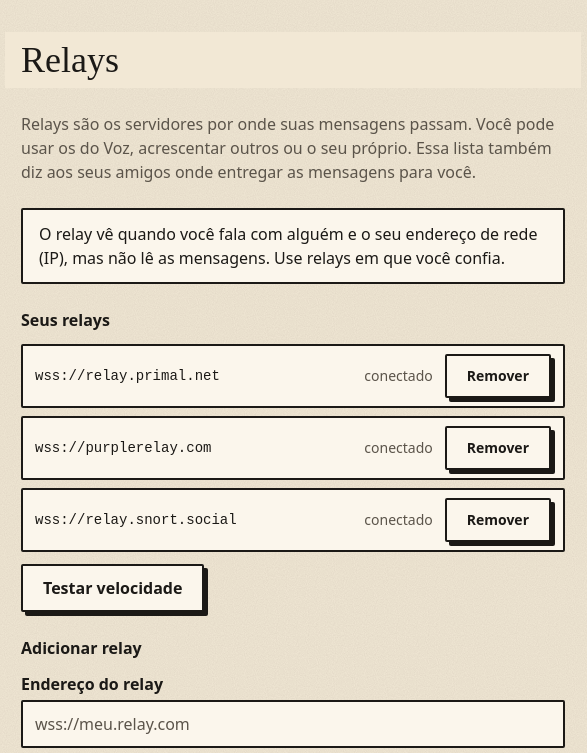
Scenario: tela de relays › cancelar descarta o relay que nao conectou
In the field labelled "Endereço do relay": {"x": 293, "y": 724} top-left (21, 700), bottom-right (565, 748), type "wss://fora.do.ar"
(page scrolled)
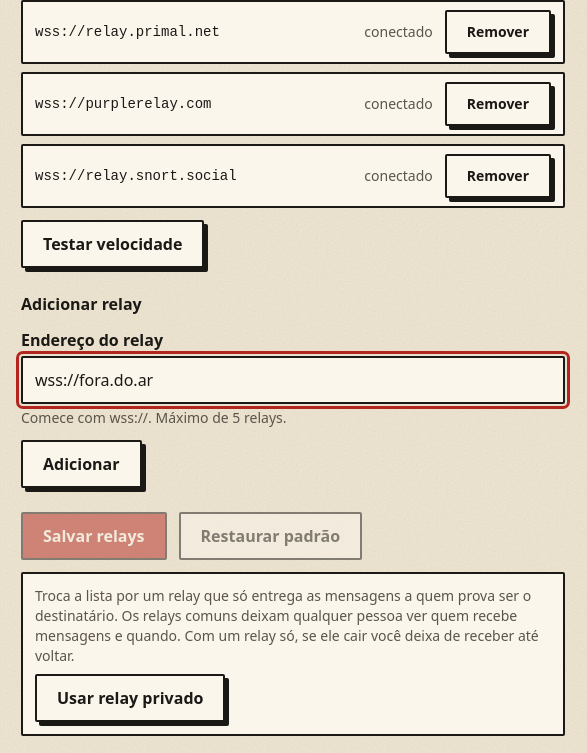
Click the button "Adicionar": {"x": 81, "y": 464} top-left (21, 440), bottom-right (142, 488)
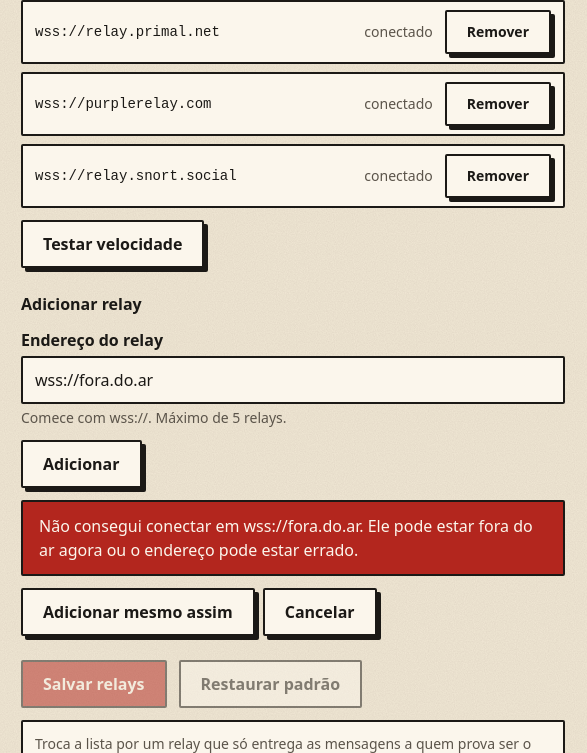
Click the button "Cancelar": {"x": 320, "y": 612} top-left (263, 588), bottom-right (377, 636)
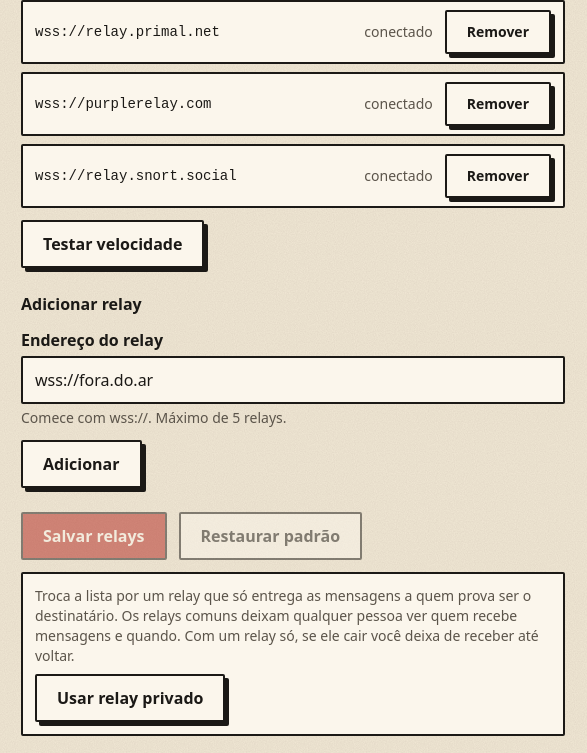
expect the text "Não consegui conectar" is gone: met
